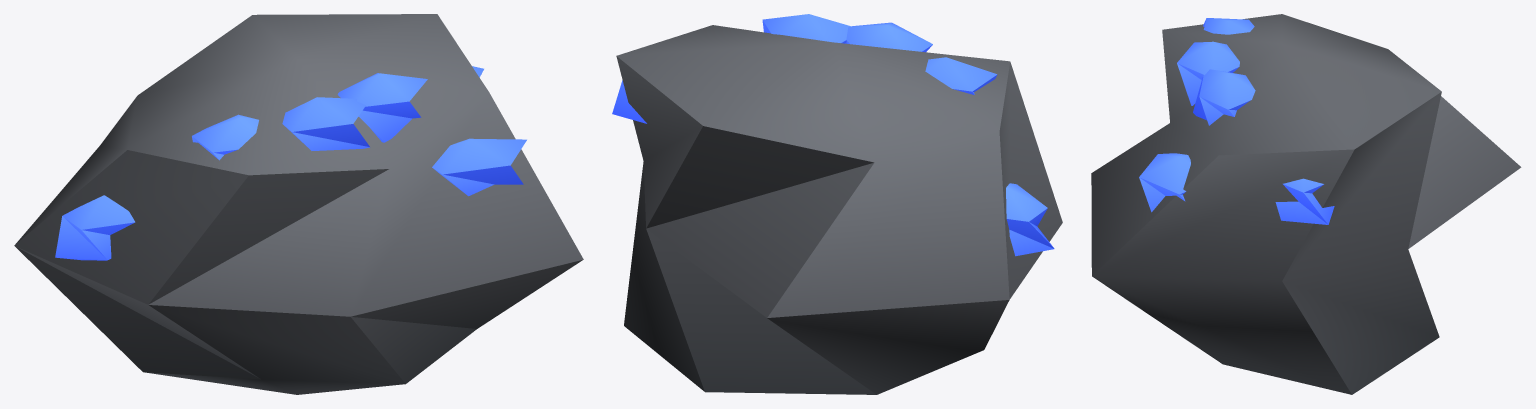
File: keep_cobalt.glb
3 renders of one model, left to right at view 1: azimuth 30°, elevation 25°; view 2: azimuth 150°, elevation 25°; view 3: azimuth 270°, elevation 25°, orthographic. The views are drawn at different scales.
Parts seen in each view (by area): view 1: keep_cobalt_trim, keep_cobalt_glow; view 2: keep_cobalt_trim, keep_cobalt_glow; view 3: keep_cobalt_trim, keep_cobalt_glow.
Part boxes in pixels (box(x1,y1,x2,y2)): keep_cobalt_trim: box(14, 14, 583, 394); keep_cobalt_glow: box(55, 66, 526, 260); keep_cobalt_trim: box(616, 25, 1062, 394); keep_cobalt_glow: box(612, 14, 1054, 256); keep_cobalt_trim: box(1091, 14, 1521, 394); keep_cobalt_glow: box(1139, 18, 1334, 224).
Size of the model in its own units: 0.5395 by 0.4 by 0.5127.
